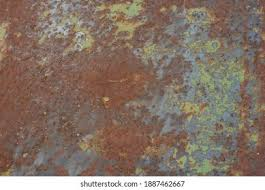rust: (4, 3, 52, 165), (45, 38, 157, 104), (83, 111, 182, 170), (208, 109, 265, 176), (159, 52, 197, 98), (207, 3, 238, 56)
